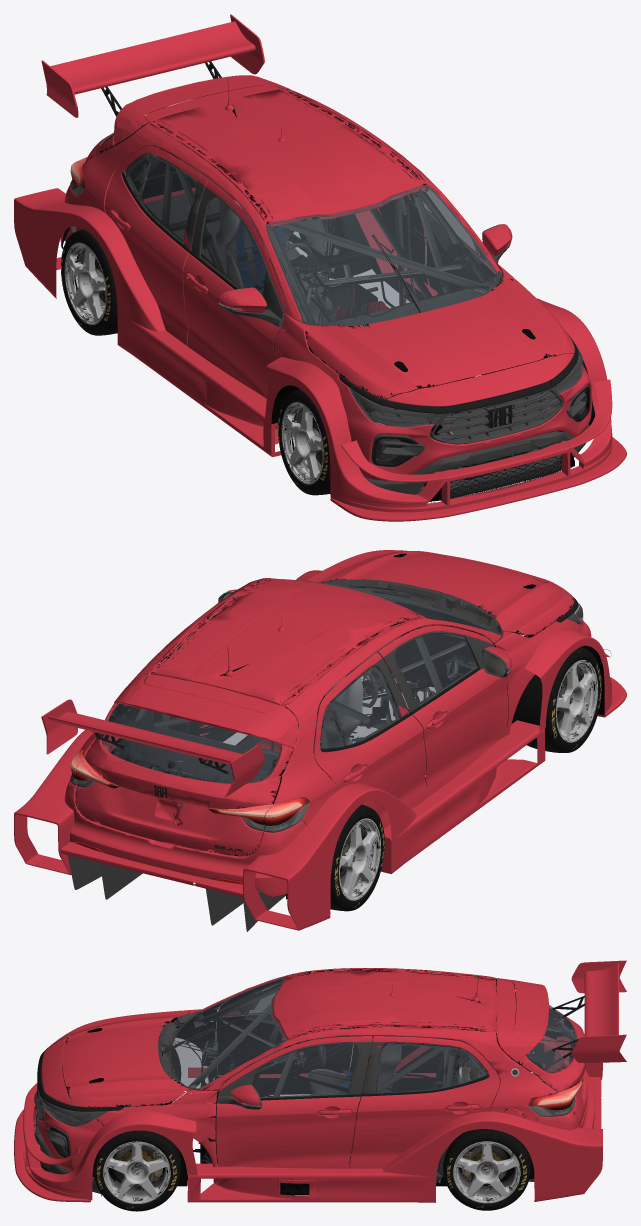
Rendered from fiat_pulse.glb.
3 views of the same model, one above another, from view 1: azimuth 30°, elevation 25°; view 2: azimuth 150°, elevation 25°; view 3: azimuth 270°, elevation 25° (orthographic). The views are drawn at different scales.
Visible parts, largest first — view 1: body, spin (×3); view 2: body, spin (×2); view 3: body, spin (×3).
Boxes of the visible parts, x1,y1,x2,y2 form: body: [14, 14, 626, 521]; spin (×3): [61, 214, 371, 495]; body: [14, 550, 626, 931]; spin (×2): [330, 647, 601, 911]; body: [14, 960, 626, 1202]; spin (×3): [93, 1047, 531, 1211].
Size of the model in its own units: 1.98 by 1.49 by 4.5.
61 materials, 57 textured.
